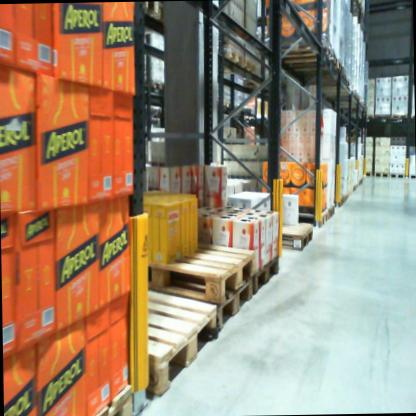pallet: (130, 278, 224, 404), (131, 235, 260, 307), (214, 281, 256, 343), (91, 372, 147, 414), (270, 215, 313, 259), (248, 247, 281, 294), (131, 1, 172, 35), (273, 40, 331, 63), (279, 50, 337, 71), (207, 46, 245, 78), (239, 74, 286, 96), (218, 59, 260, 77), (138, 72, 167, 93), (347, 0, 367, 16), (310, 210, 328, 225), (324, 204, 337, 221), (388, 171, 405, 182), (353, 113, 375, 121), (375, 170, 390, 180), (358, 169, 373, 179), (390, 112, 407, 120), (242, 106, 252, 116)
